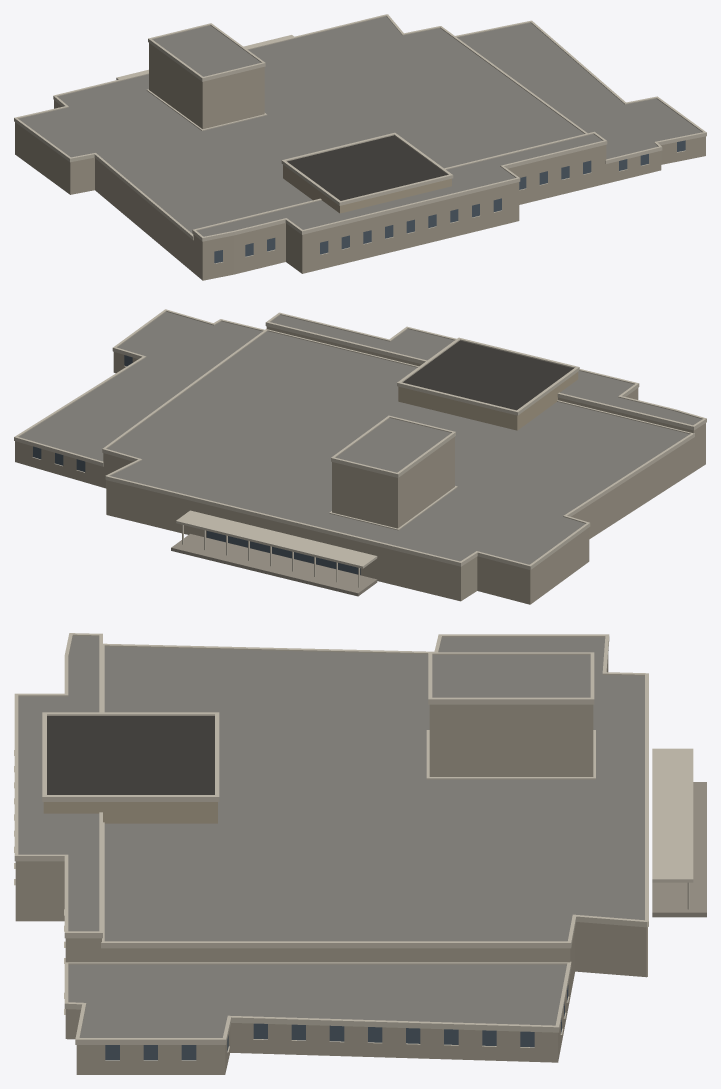
File: arkansas-arts-center-1985.glb
3 views of the same model, one above another, from view 1: azimuth 30°, elevation 25°; view 2: azimuth 150°, elevation 25°; view 3: azimuth 270°, elevation 25° (orthographic). The views are drawn at different scales.
Parts seen in each view (by area): view 1: arkansas_arts_center_1985; view 2: arkansas_arts_center_1985; view 3: arkansas_arts_center_1985.
Part boxes in pixels (x1,y1,x2,y2): arkansas_arts_center_1985: (14, 14, 706, 280); arkansas_arts_center_1985: (14, 309, 706, 604); arkansas_arts_center_1985: (14, 633, 706, 1074).
Size of the model in its own units: 100 by 16.25 by 76.18.
